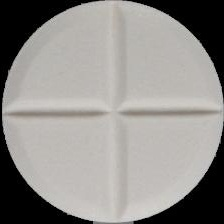0378-0724: (0, 0, 224, 224)
